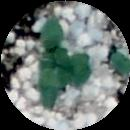Basil: (38, 69, 62, 112), (41, 52, 80, 75), (37, 19, 62, 53), (72, 55, 90, 82), (112, 54, 130, 74)
